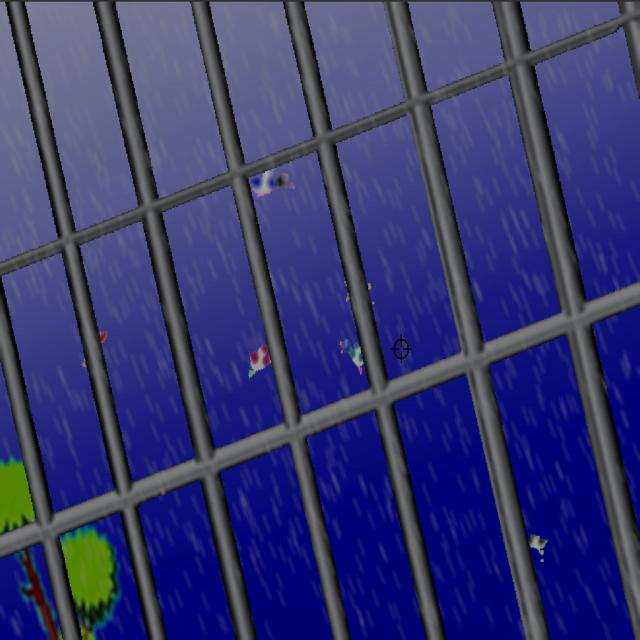duck: (243, 163, 305, 205), (237, 333, 281, 385), (79, 327, 114, 375), (338, 326, 369, 376), (522, 526, 556, 566)
